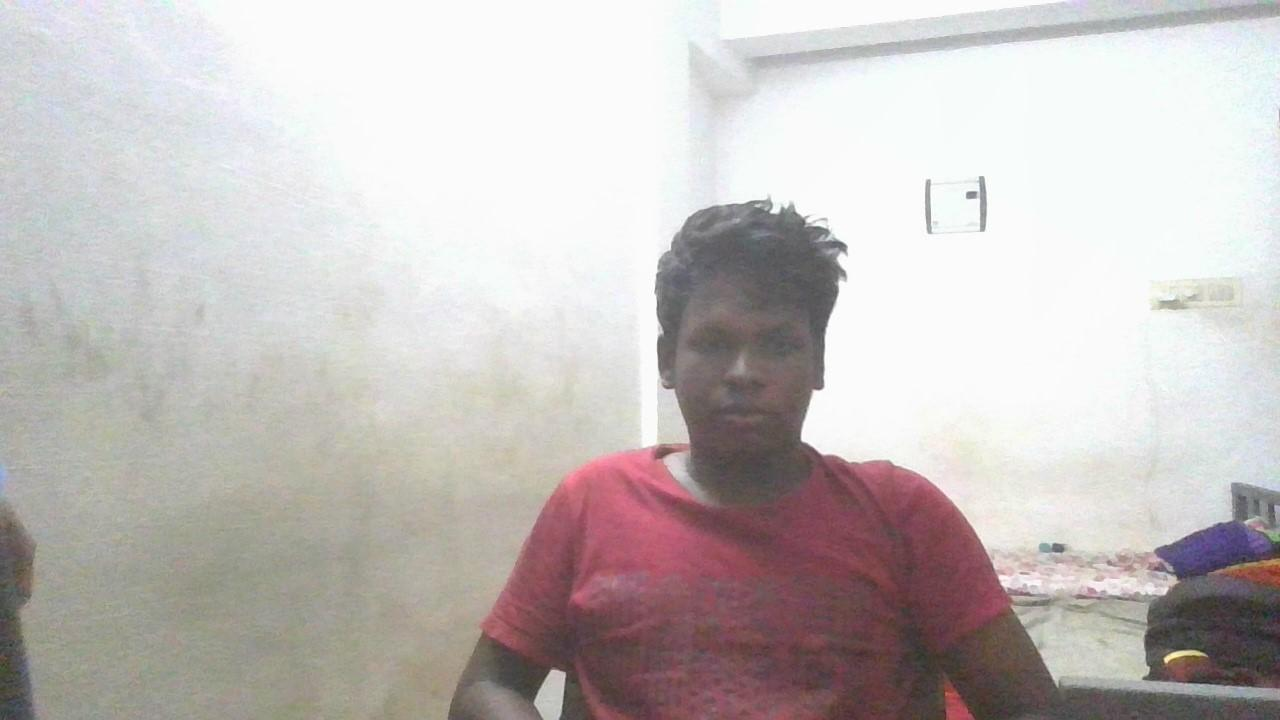nohelmet: (653, 203, 839, 471)
